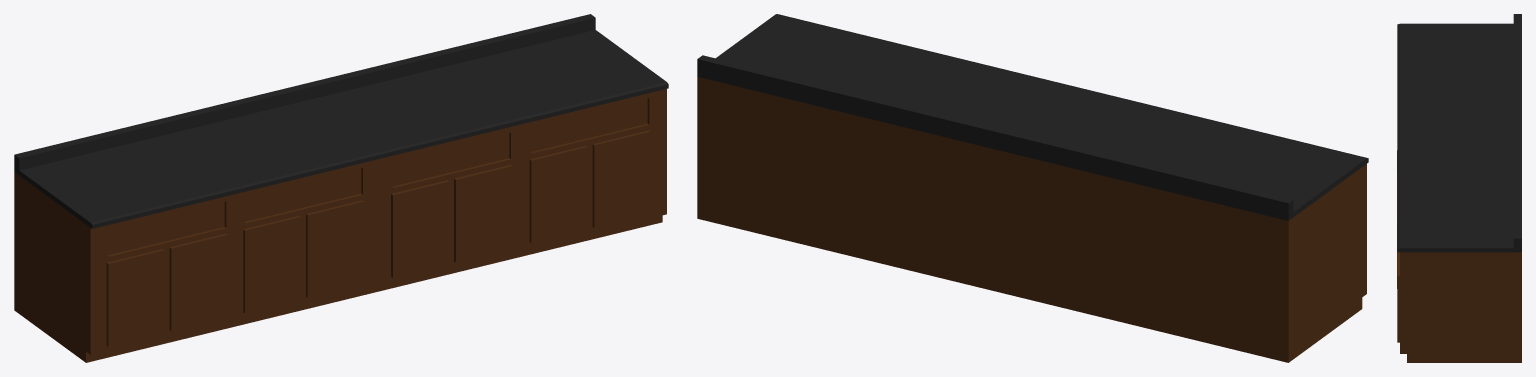
Rendered from kitchenCounter.fbx.
3 renders of one model, left to right at view 1: azimuth 30°, elevation 25°; view 2: azimuth 150°, elevation 25°; view 3: azimuth 270°, elevation 25°, orthographic. The views are drawn at different scales.
Visible parts, largest first — view 1: Kitchen Counter; view 2: Kitchen Counter; view 3: Kitchen Counter.
Part boxes in pixels (box(x1,y1,x2,y2)): Kitchen Counter: box(14, 14, 668, 362); Kitchen Counter: box(697, 14, 1368, 362); Kitchen Counter: box(1397, 14, 1521, 362).
Size of the model in its own units: 67.33 by 287 by 73.98.
